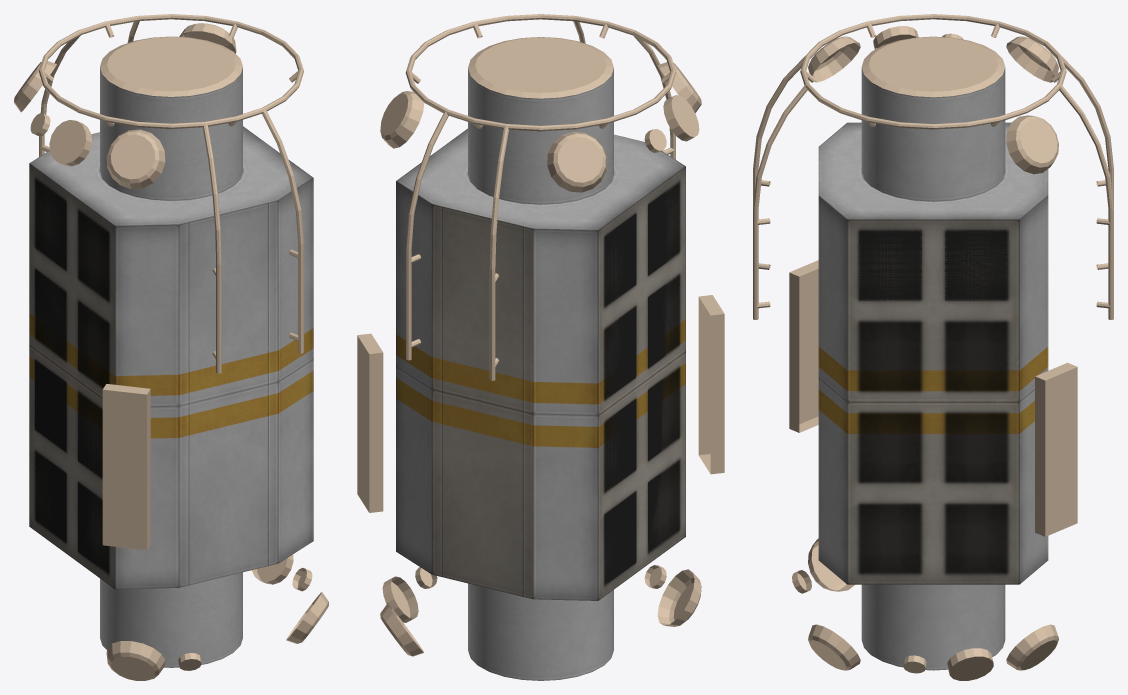
Rendered from mira_crew_s1_1_interior.obj.
3 renders of one model, left to right at view 1: azimuth 30°, elevation 25°; view 2: azimuth 150°, elevation 25°; view 3: azimuth 270°, elevation 25°, orthographic.
Visible parts, largest first — view 1: i1, im1; view 2: i1, im1; view 3: i1, im1.
Part boxes in pixels (x1,y1,x2,y2): i1: (29,68,313,667); im1: (14,14,328,680); i1: (396,68,685,680); im1: (357,14,724,656); i1: (818,68,1048,670); im1: (753,14,1113,680).
Bounding box in the file's own units: 1.36 × 2.78 × 1.57.
2 materials, 1 textured.
